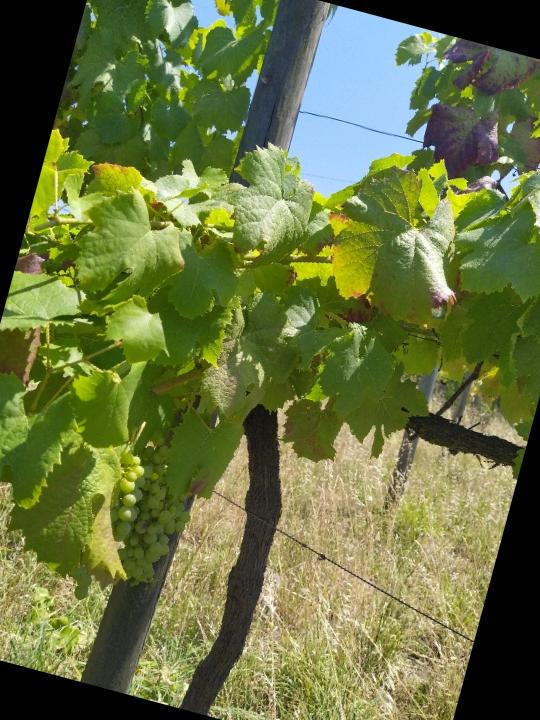grape: (91, 436, 213, 597)
